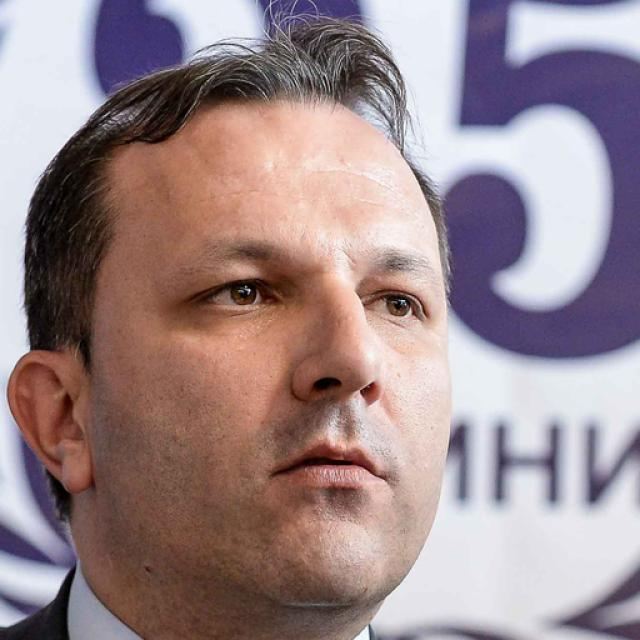neutral: (92, 97, 452, 604)
